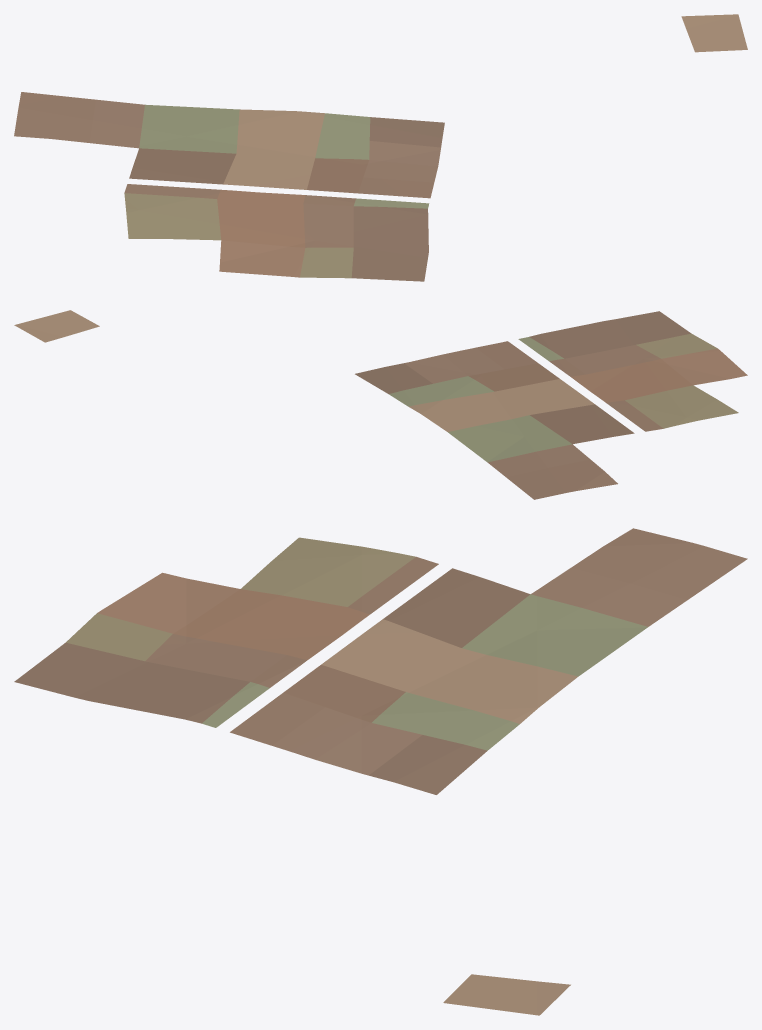
Rendered from farm_8_8_soil.glb.
The picture shows the model from 3 angles, top to bottom: view 1: azimuth 30°, elevation 25°; view 2: azimuth 150°, elevation 25°; view 3: azimuth 270°, elevation 25°; orthographic projection. The views are drawn at different scales.
Parts seen in each view (by area): view 1: geometry_0; view 2: geometry_0; view 3: geometry_0.
Boxes of the visible parts, x1,y1,x2,y2 form: geometry_0: [14, 14, 747, 281]; geometry_0: [14, 310, 747, 499]; geometry_0: [14, 528, 747, 1015].
Bounding box in the file's own units: 500 × 18.1 × 335.
